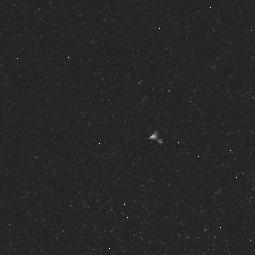debris: (141, 120, 171, 154)
